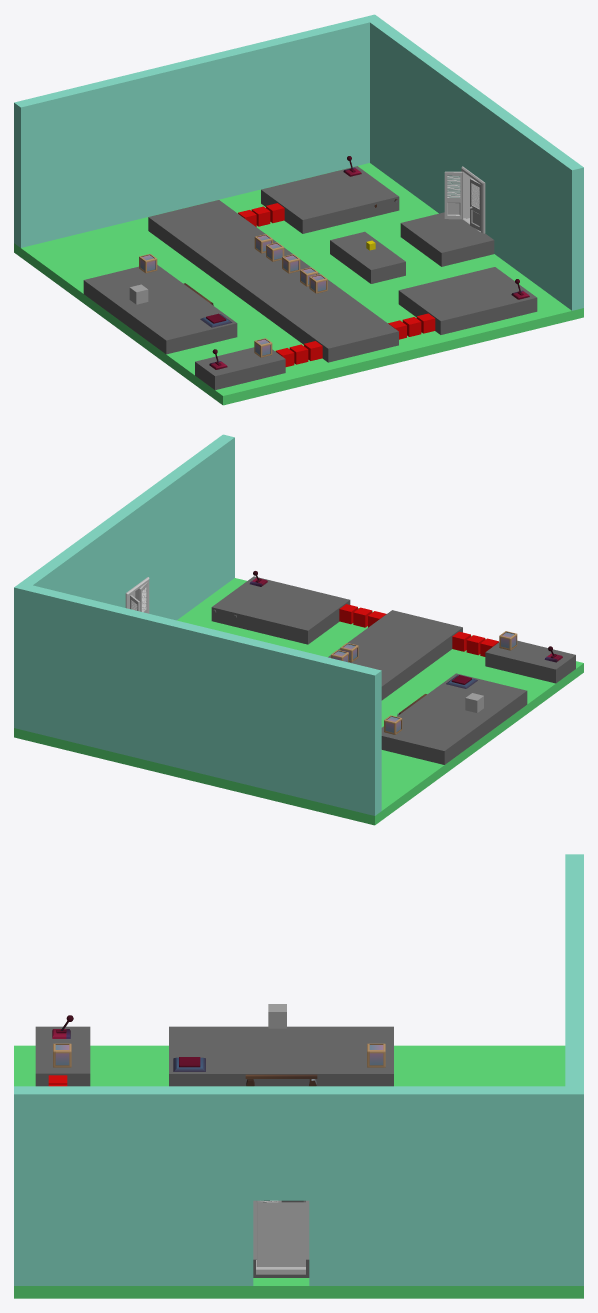
File: Level[LeversInTheGreen].fbx
The picture shows the model from 3 angles, top to bottom: view 1: azimuth 30°, elevation 25°; view 2: azimuth 150°, elevation 25°; view 3: azimuth 270°, elevation 25°; orthographic projection. The views are drawn at different scales.
Visible parts, largest first — view 1: pCube10, pCube15, pCube11, pCube3, pCube13, pCube1, pCube9, pCube5, pCube6, pCube4, pCube2, pCube12 (+3 smaller); view 2: pCube10, pCube15, pCube11, pCube1, pCube9, pCube13, pCube3, pCube2, pCube12; view 3: pCube13, pCube11, pCube15, pCube1, pCube12, pCube10, polySurface31, pCube2.
Boxes of the visible parts, x1,y1,x2,y2 form: pCube10: (14,14,374,247); pCube15: (14,163,583,405); pCube11: (484,103,583,310); pCube3: (148,200,398,362); pCube13: (370,15,475,213); pCube1: (83,265,237,354); pCube9: (398,267,537,334); pCube5: (261,166,399,233); pCube6: (400,212,494,266); pCube4: (330,231,405,283); pCube2: (195,347,285,390); pCube12: (464,88,495,181); pCube10: (14,585,381,815); pCube15: (14,578,583,825); pCube11: (135,434,234,620); pCube1: (381,673,527,764); pCube9: (211,576,350,644); pCube13: (14,514,126,607); pCube3: (328,610,462,700); pCube2: (485,640,575,683); pCube12: (115,498,146,591); pCube13: (309,1086,583,1285); pCube11: (14,1086,253,1285); pCube15: (14,1045,583,1298); pCube1: (169,1026,393,1086); pCube12: (253,1086,309,1200); pCube10: (565,854,583,1093); polySurface31: (256,1202,305,1266); pCube2: (35,1026,90,1086).
Size of the model in its own units: 30.67 by 12.09 by 30.54.
Materials: 10 (3 with a texture image).
